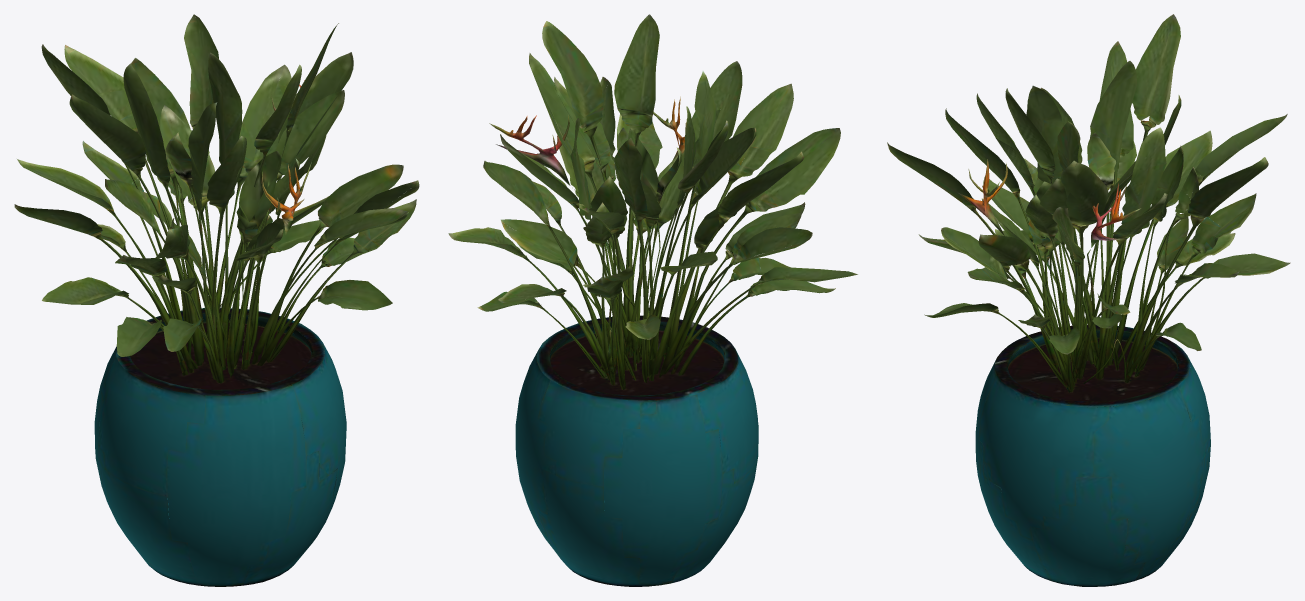
File: potted-plant.glb
3 renders of one model, left to right at view 1: azimuth 30°, elevation 25°; view 2: azimuth 150°, elevation 25°; view 3: azimuth 270°, elevation 25°, orthographic. The views are drawn at different scales.
Parts seen in each view (by area): view 1: tripo_node_d9218a04-45e0-4618-9b91-fd6df3ada44c; view 2: tripo_node_d9218a04-45e0-4618-9b91-fd6df3ada44c; view 3: tripo_node_d9218a04-45e0-4618-9b91-fd6df3ada44c.
Part boxes in pixels (x1,y1,x2,y2): tripo_node_d9218a04-45e0-4618-9b91-fd6df3ada44c: [14, 14, 419, 586]; tripo_node_d9218a04-45e0-4618-9b91-fd6df3ada44c: [448, 14, 857, 586]; tripo_node_d9218a04-45e0-4618-9b91-fd6df3ada44c: [887, 14, 1290, 586].
Size of the model in its own units: 1.04 by 1.4 by 1.06.
1 material, 1 textured.
